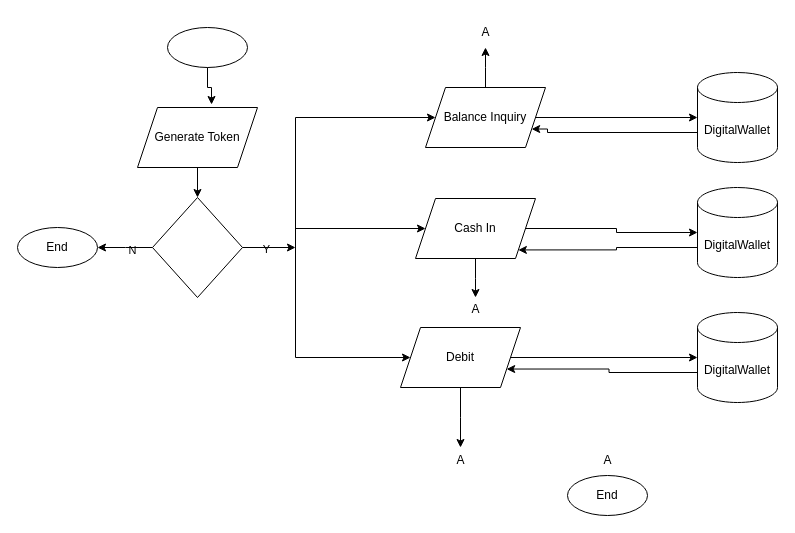
This 795x533 diagram has some shape labels left out. The centre of each missing label's shape, as x and y in pixels:
is generated?: (x=197, y=247)
Start: (x=207, y=47)
